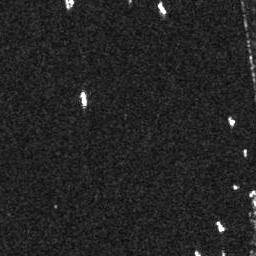ship: (156, 3, 167, 15), (215, 220, 225, 232), (80, 91, 87, 107), (227, 116, 236, 126), (249, 190, 256, 199), (242, 148, 248, 158)
